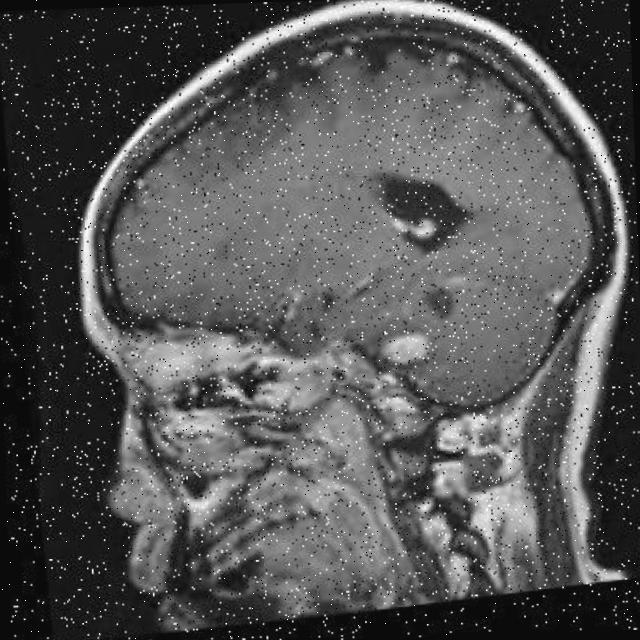LMCI: (372, 138, 514, 342)
